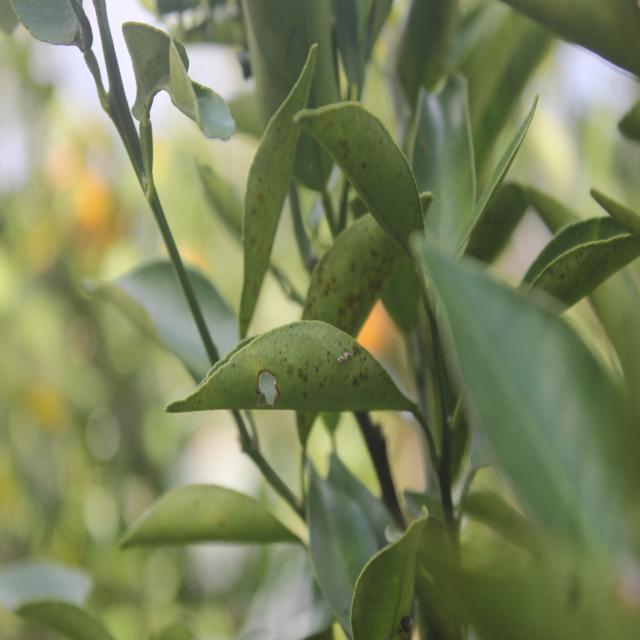melanose: (213, 41, 323, 328), (169, 308, 408, 440), (293, 94, 442, 254), (303, 184, 435, 349), (523, 205, 640, 322)
